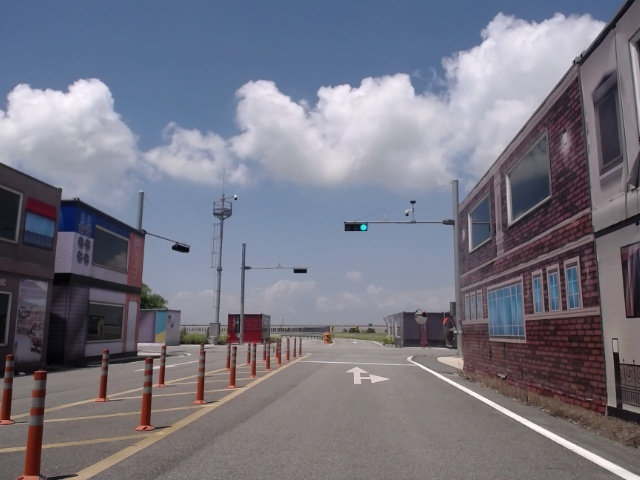green_3: (345, 223, 369, 230)
